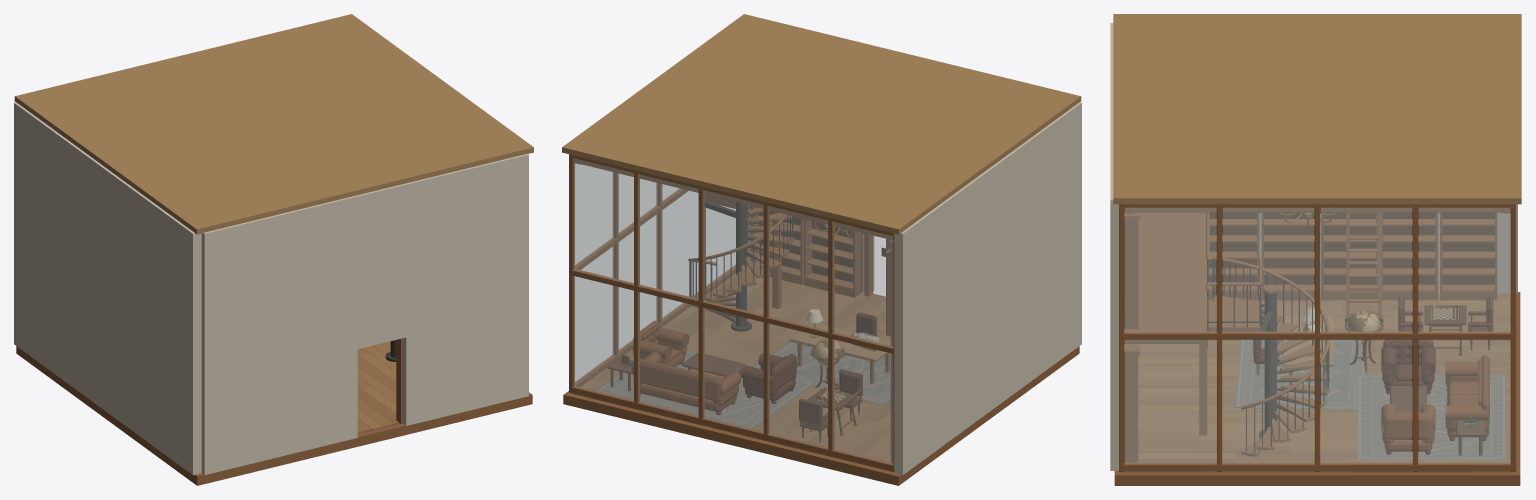
Rendered from library-room-v04.glb.
3 renders of one model, left to right at view 1: azimuth 30°, elevation 25°; view 2: azimuth 150°, elevation 25°; view 3: azimuth 270°, elevation 25°, orthographic. The views are drawn at different scales.
Parts seen in each view (by area): view 1: WEB | Interior wall backing | warm plaster, WEB | Ceiling and floor | warm lighter timber, WEB | Timber | warm medium tone - provisional, WEB | Floor board variation 04, WEB | Floor board variation 03, WEB | Floor board variation 01; view 2: WEB | Glass | clear panes, WEB | Ceiling and floor | warm lighter timber, WEB | Interior wall backing | warm plaster, WEB | Timber | warm medium tone - provisional, WEB | Leather | aged cognac, WEB | Floor board variation 03, WEB | Shelf backs | muted timber, WEB | Railings | dark bronze, WEB | Floor board variation 01, WEB | Floor board variation 00, WEB | Quiet rug | muted indigo, WEB | Floor board variation 02 (+7 smaller); view 3: WEB | Glass | clear panes, WEB | Ceiling and floor | warm lighter timber, WEB | Timber | warm medium tone - provisional, WEB | Shelf backs | muted timber, WEB | Floor board variation 03, WEB | Floor board variation 00, WEB | Leather | aged cognac, WEB | Interior wall backing | warm plaster, WEB | Floor board variation 02, WEB | Quiet rug | faded madder, WEB | Floor board variation 04, WEB | Quiet rug | muted indigo (+9 smaller).
Boxes of the visible parts, bbox=[...] form: WEB | Interior wall backing | warm plaster: bbox=[14, 102, 528, 475]; WEB | Ceiling and floor | warm lighter timber: bbox=[14, 14, 533, 234]; WEB | Timber | warm medium tone - provisional: bbox=[16, 338, 532, 485]; WEB | Floor board variation 04: bbox=[357, 351, 396, 430]; WEB | Floor board variation 03: bbox=[357, 341, 396, 433]; WEB | Floor board variation 01: bbox=[357, 355, 396, 433]; WEB | Glass | clear panes: bbox=[574, 158, 892, 463]; WEB | Ceiling and floor | warm lighter timber: bbox=[562, 14, 1081, 361]; WEB | Interior wall backing | warm plaster: bbox=[748, 102, 1081, 474]; WEB | Timber | warm medium tone - provisional: bbox=[563, 154, 1079, 485]; WEB | Leather | aged cognac: bbox=[631, 320, 741, 411]; WEB | Floor board variation 03: bbox=[572, 288, 890, 467]; WEB | Shelf backs | muted timber: bbox=[607, 211, 862, 414]; WEB | Railings | dark bronze: bbox=[689, 201, 890, 331]; WEB | Floor board variation 01: bbox=[604, 265, 890, 455]; WEB | Floor board variation 00: bbox=[592, 272, 893, 472]; WEB | Quiet rug | muted indigo: bbox=[600, 342, 890, 427]; WEB | Floor board variation 02: bbox=[583, 296, 885, 456]; WEB | Glass | clear panes: bbox=[1125, 208, 1509, 463]; WEB | Ceiling and floor | warm lighter timber: bbox=[1113, 14, 1521, 366]; WEB | Timber | warm medium tone - provisional: bbox=[1114, 204, 1520, 485]; WEB | Shelf backs | muted timber: bbox=[1124, 212, 1494, 462]; WEB | Floor board variation 03: bbox=[1138, 305, 1512, 472]; WEB | Floor board variation 00: bbox=[1138, 293, 1510, 472]; WEB | Leather | aged cognac: bbox=[1381, 355, 1489, 451]; WEB | Interior wall backing | warm plaster: bbox=[1110, 23, 1517, 470]; WEB | Floor board variation 02: bbox=[1138, 299, 1510, 472]; WEB | Quiet rug | faded madder: bbox=[1240, 339, 1506, 459]; WEB | Floor board variation 04: bbox=[1138, 293, 1510, 472]; WEB | Quiet rug | muted indigo: bbox=[1235, 339, 1501, 457].
Size of the model in its own units: 9.42 by 6.82 by 8.81.
